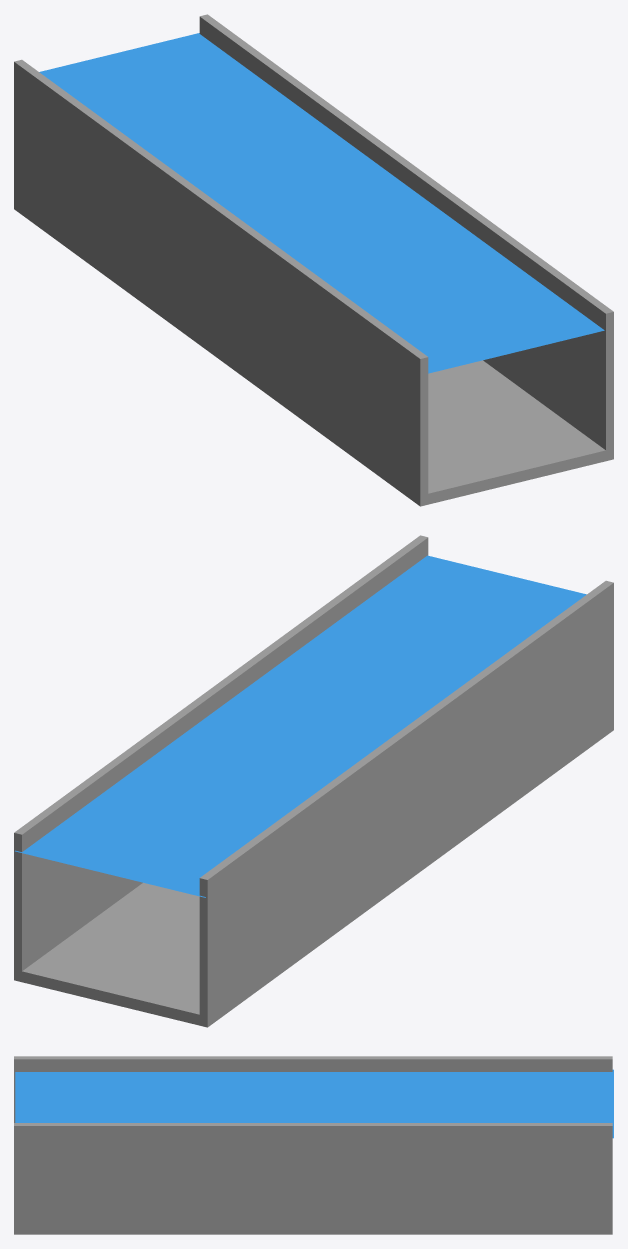
File: caunuoc.fbx
3 renders of one model, top to bottom at view 1: azimuth 30°, elevation 25°; view 2: azimuth 150°, elevation 25°; view 3: azimuth 270°, elevation 25°, orthographic. The views are drawn at different scales.
Visible parts, largest first — view 1: Nuoc, caunuoc; view 2: Nuoc, caunuoc; view 3: Nuoc, caunuoc.
Part boxes in pixels (<box>): Nuoc: <box>14,14,613,506</box>; caunuoc: <box>39,33,604,373</box>; Nuoc: <box>14,535,613,1027</box>; caunuoc: <box>15,555,586,897</box>; Nuoc: <box>14,1056,612,1234</box>; caunuoc: <box>15,1069,613,1138</box>.
Bounding box in the file's own units: 283 × 206 × 1029.
